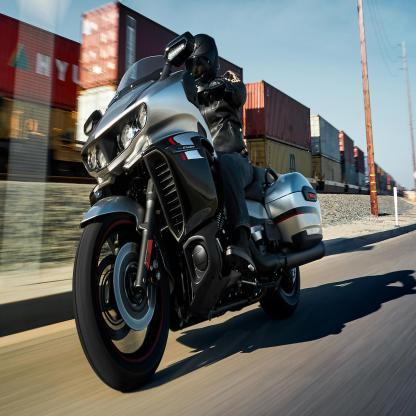Motorcycle: (54, 78, 332, 393)
